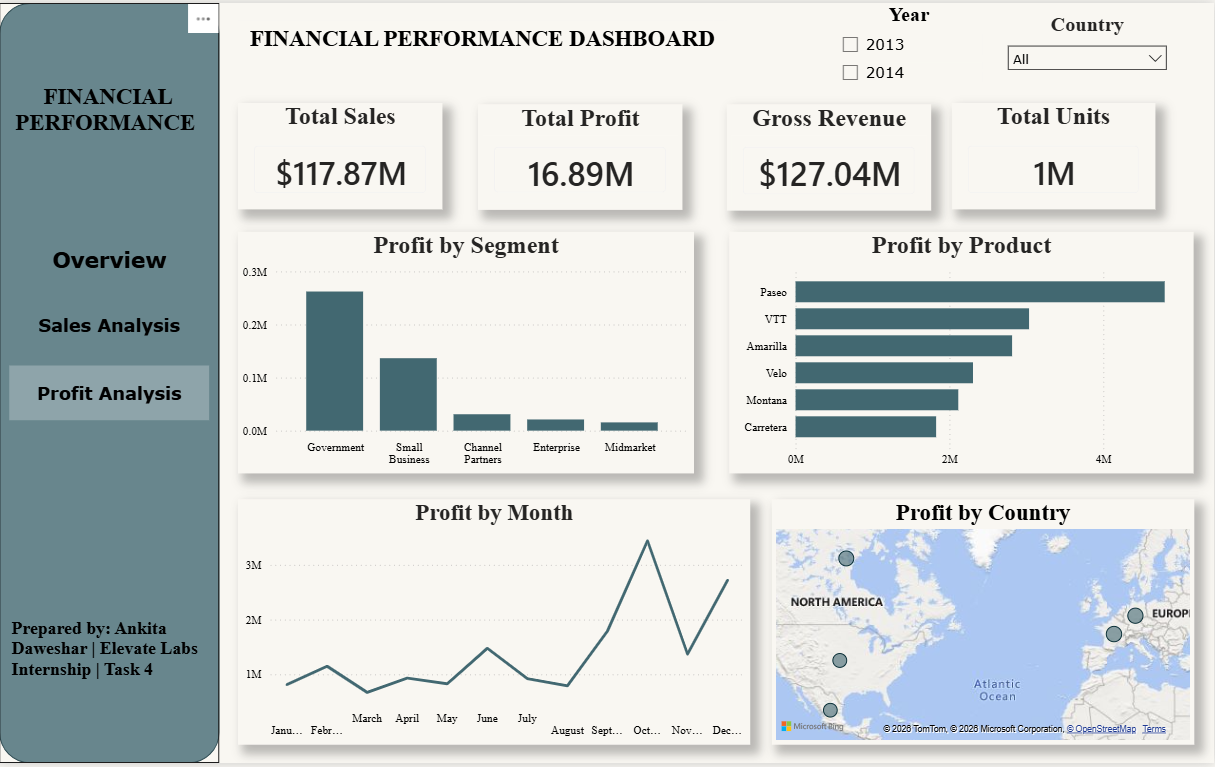

The dashboard page shown, as its layout file describes it:
{"tool":"powerbi","page":{"name":"Profit Analysis","canvas":[1280,800],"ordinal":2},"visuals":[{"type":"shape","box":[1.3,0,231.9,800.3],"z":0},{"type":"cardVisual","title":"Total Sales","fields":{"Data":["Sum(Financials.  Sales )"]},"box":[252,105.9,215.5,112.2],"z":1000},{"type":"cardVisual","title":"Total Profit","fields":{"Data":["Sum(Financials. Profit )"]},"box":[505.4,107.1,215.5,110.9],"z":2000},{"type":"cardVisual","title":"Total Units","fields":{"Data":["Sum(Financials. Units Sold )"]},"box":[1004.4,105.9,214.2,112.2],"z":3000},{"type":"cardVisual","title":"Gross Revenue","fields":{"Data":["Sum(Financials. Gross Sales )"]},"box":[767.5,107.1,215.5,112.2],"z":4000},{"type":"slicer","title":"Country","fields":{"Values":["Financials.Country"]},"box":[1052.3,10.1,187.8,78.1],"z":5000},{"type":"textbox","box":[8.8,641.5,216.8,92],"z":6000},{"type":"lineChart","title":"Profit  by  Month","fields":{"Y":["Sum(Financials. Profit )"],"Category":["Financials. Month Name "]},"box":[252,521.7,539.4,258.4],"z":7000},{"type":"clusteredColumnChart","title":"Profit by Segment","fields":{"Category":["Financials.Segment"],"Y":["Max(Financials. Profit )"]},"box":[252,240.7,480.2,254.6],"z":8000},{"type":"map","title":"Profit by Country","fields":{"Category":["Financials.Country"],"Size":["Sum(Financials. Profit )"]},"box":[814.1,521.7,444.9,258.4],"z":9000},{"type":"clusteredBarChart","title":"Profit  by  Product ","fields":{"Y":["Sum(Financials. Profit )"],"Category":["Financials. Product "]},"box":[770,240.7,489,254.6],"z":10000},{"type":"actionButton","box":[11.3,381.9,210.5,58],"z":11000},{"type":"actionButton","box":[11.3,308.8,210.5,59.2],"z":12000},{"type":"actionButton","box":[11.3,240.7,210.5,59.2],"z":13000},{"type":"textbox","box":[252,18.9,514.2,61.8],"z":14000},{"type":"slicer","title":"Year","fields":{"Values":["Financials.Year"]},"box":[875.9,0,165.1,97],"z":15000},{"type":"textbox","box":[0,80.7,231.9,88.2],"z":16000}]}

Visuals, with their boxes on the page's 1280x800 design canvas (x1, y1, x2, y2). These are canvas units, not pixel positions in the 1215x767 screenshot, which may show the page scaled, cropped or inside an application window:
shape: <box>1,0,233,800</box>
"Total Sales" cardVisual: <box>252,106,468,218</box>
"Total Profit" cardVisual: <box>505,107,721,218</box>
"Total Units" cardVisual: <box>1004,106,1219,218</box>
"Gross Revenue" cardVisual: <box>768,107,983,219</box>
"Country" slicer: <box>1052,10,1240,88</box>
textbox: <box>9,642,226,734</box>
"Profit  by  Month" lineChart: <box>252,522,791,780</box>
"Profit by Segment" clusteredColumnChart: <box>252,241,732,495</box>
"Profit by Country" map: <box>814,522,1259,780</box>
"Profit  by  Product " clusteredBarChart: <box>770,241,1259,495</box>
actionButton: <box>11,382,222,440</box>
actionButton: <box>11,309,222,368</box>
actionButton: <box>11,241,222,300</box>
textbox: <box>252,19,766,81</box>
"Year" slicer: <box>876,0,1041,97</box>
textbox: <box>0,81,232,169</box>
